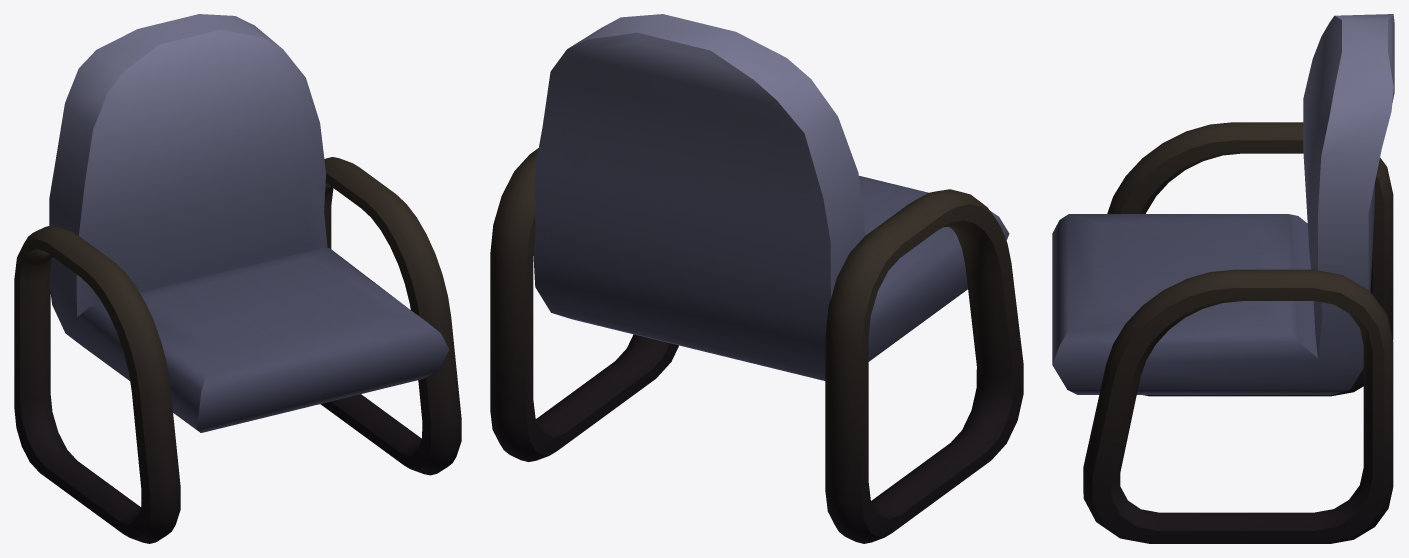
Rendered from Waiting Room Chair.fbx.
The picture shows the model from 3 angles, left to right: view 1: azimuth 30°, elevation 25°; view 2: azimuth 150°, elevation 25°; view 3: azimuth 270°, elevation 25°; orthographic projection. The views are drawn at different scales.
Visible parts, largest first — view 1: Seat, Leg; view 2: Seat, Leg; view 3: Seat, Leg.
Boxes of the visible parts, x1=… form: Seat: x1=49, y1=14, x2=449, y2=432; Leg: x1=14, y1=157, x2=461, y2=543; Seat: x1=533, y1=14, x2=1009, y2=380; Leg: x1=490, y1=148, x2=1023, y2=543; Seat: x1=1052, y1=14, x2=1394, y2=394; Leg: x1=1083, y1=122, x2=1393, y2=543.
Size of the model in its own units: 130 by 160 by 115.
